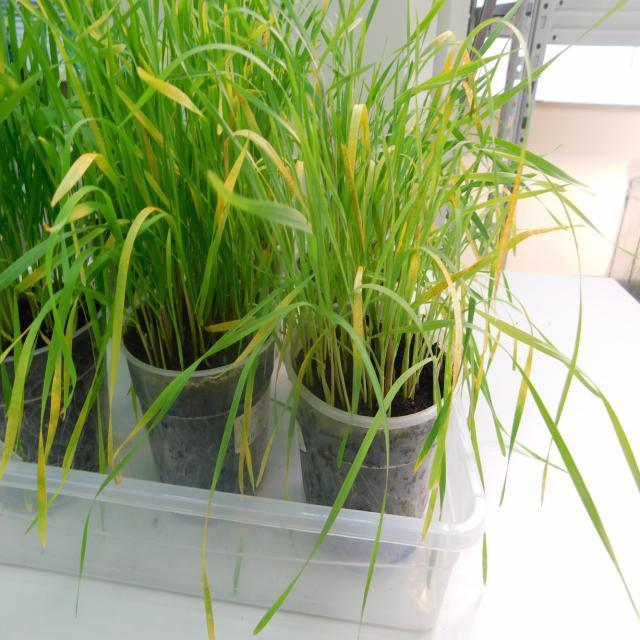Yellow_Rust: (305, 27, 552, 360), (136, 66, 203, 115), (50, 152, 97, 207)
